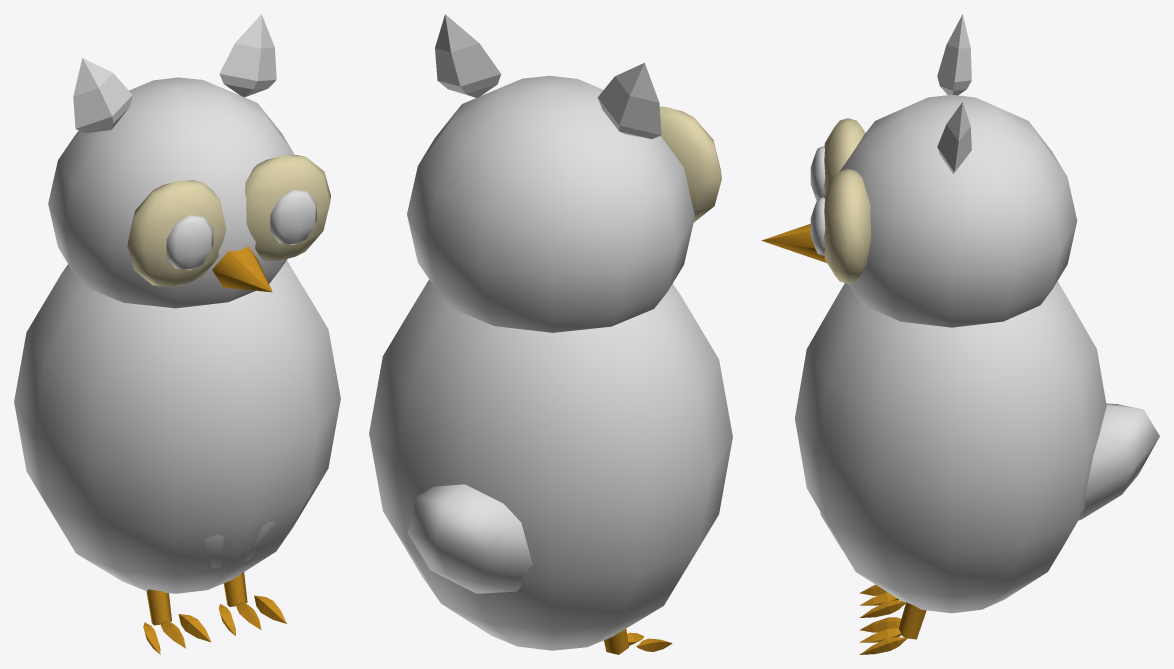
File: ville_cos_fam_hibou.glb
3 views of the same model, side by side, from view 1: azimuth 30°, elevation 25°; view 2: azimuth 150°, elevation 25°; view 3: azimuth 270°, elevation 25° (orthographic). The views are drawn at different scales.
Visible parts, largest first — view 1: cos_fam_hibou; view 2: cos_fam_hibou; view 3: cos_fam_hibou.
Part boxes in pixels (bbox=[...]): cos_fam_hibou: bbox=[14, 14, 340, 654]; cos_fam_hibou: bbox=[369, 14, 732, 654]; cos_fam_hibou: bbox=[761, 14, 1159, 654].
Bounding box in the file's own units: 0.304 × 0.5731 × 0.3659.
